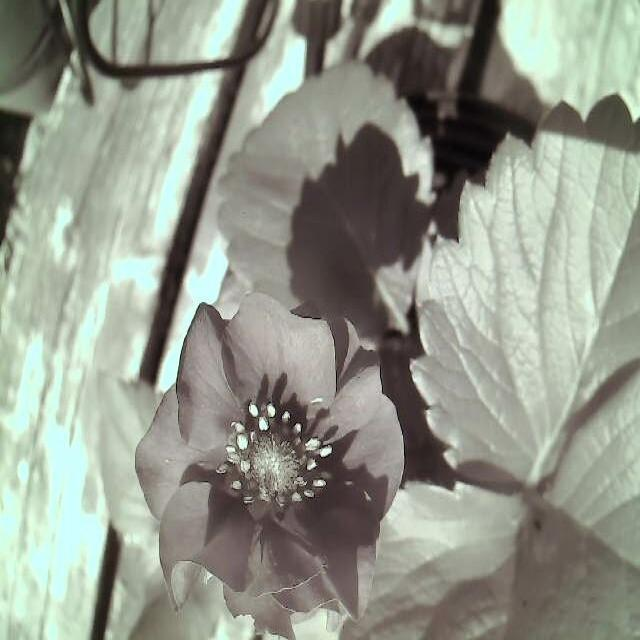flower: (131, 288, 409, 640)
